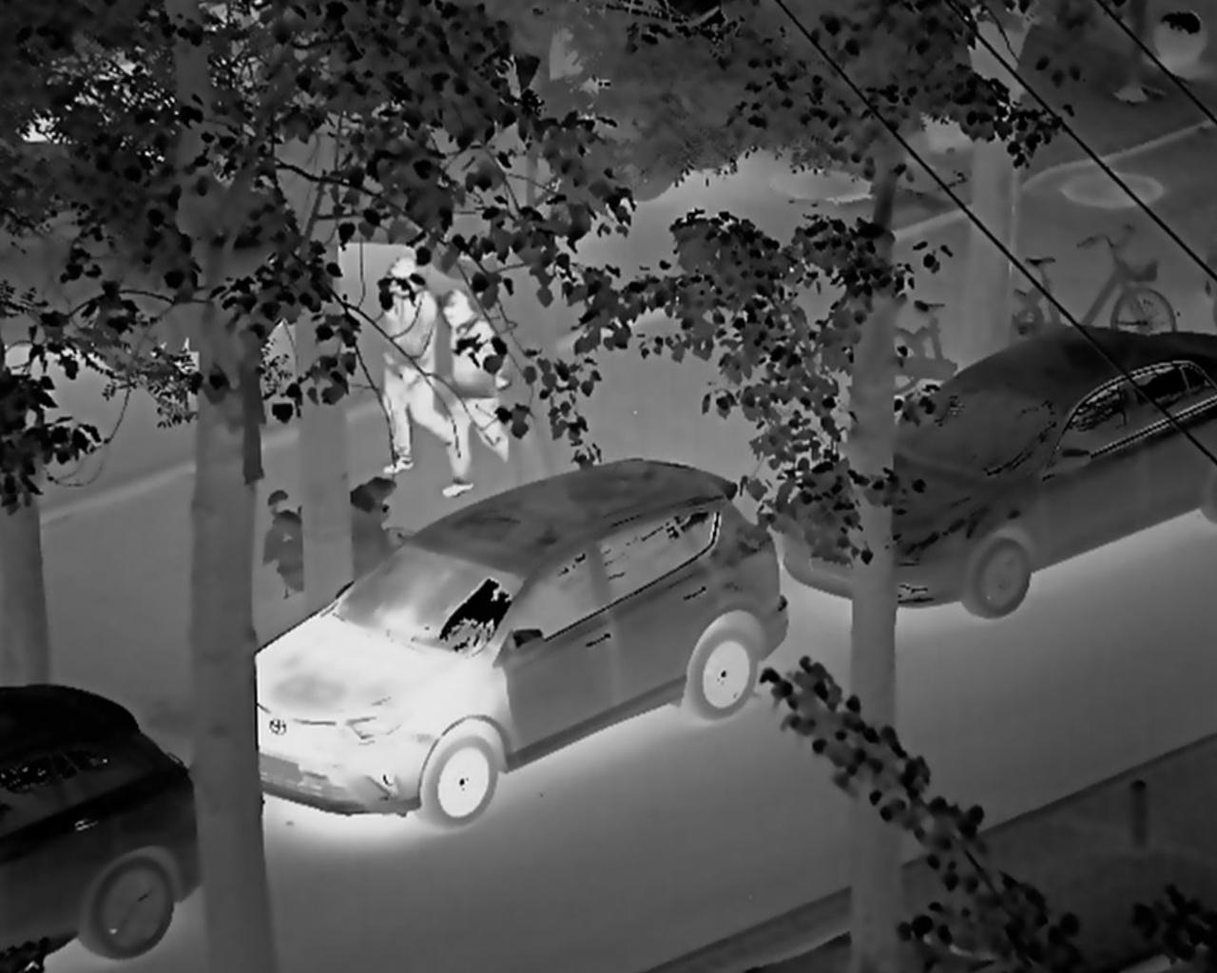person: (371, 234, 447, 498), (435, 285, 520, 501)
